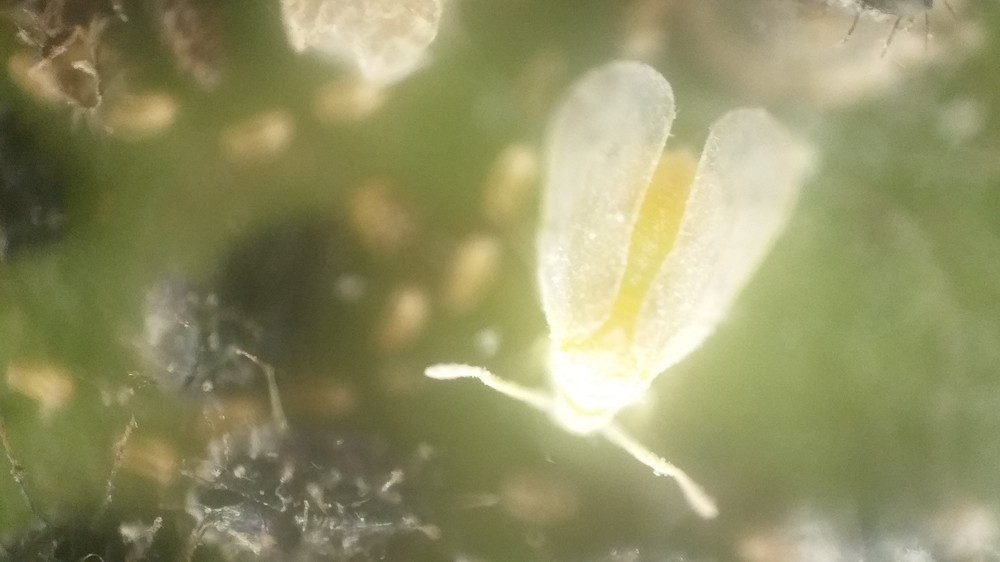Mosca Blanca: (412, 47, 817, 527)
